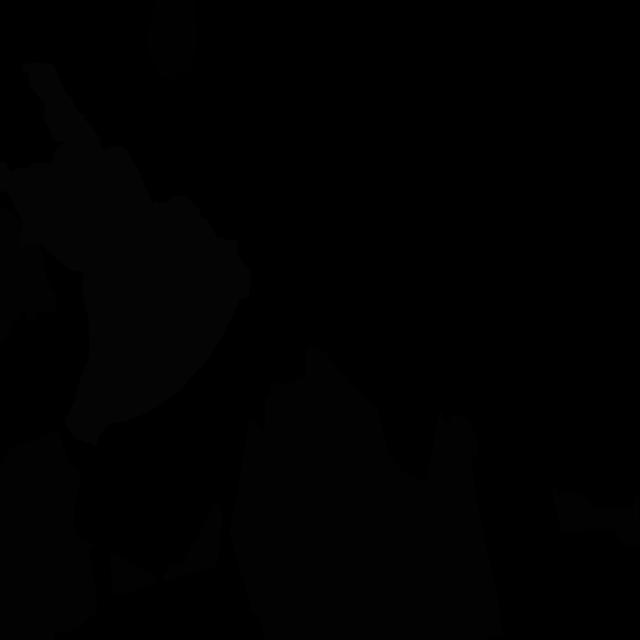cardboard: (229, 343, 502, 640), (0, 429, 98, 640), (0, 204, 57, 346), (552, 487, 640, 547), (162, 500, 224, 582), (109, 550, 157, 595)
rigid_plastic: (145, 0, 197, 80)
soft_plastic: (0, 62, 252, 445)
